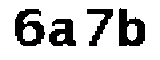6: (11, 6, 48, 51)
7: (81, 5, 116, 49)
a: (47, 18, 79, 49)
b: (116, 6, 150, 52)
